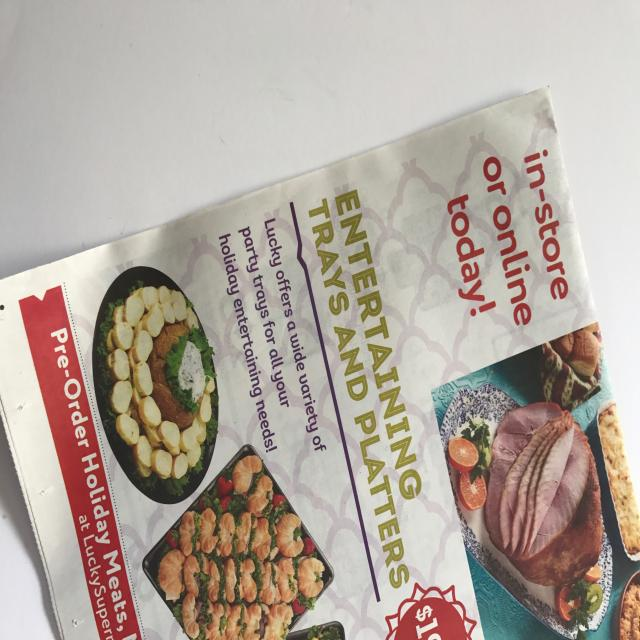paper: (0, 84, 607, 639)
